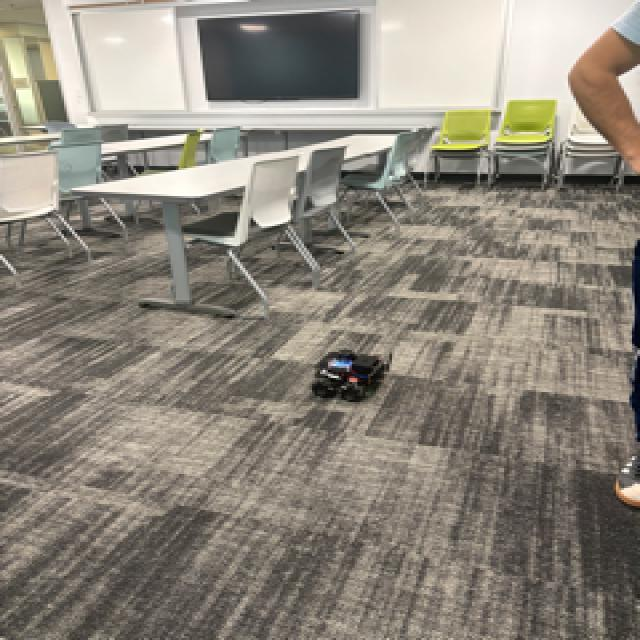ArduinoCar3: (313, 346, 395, 402)
